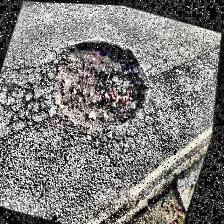pothole: (38, 27, 164, 145)
